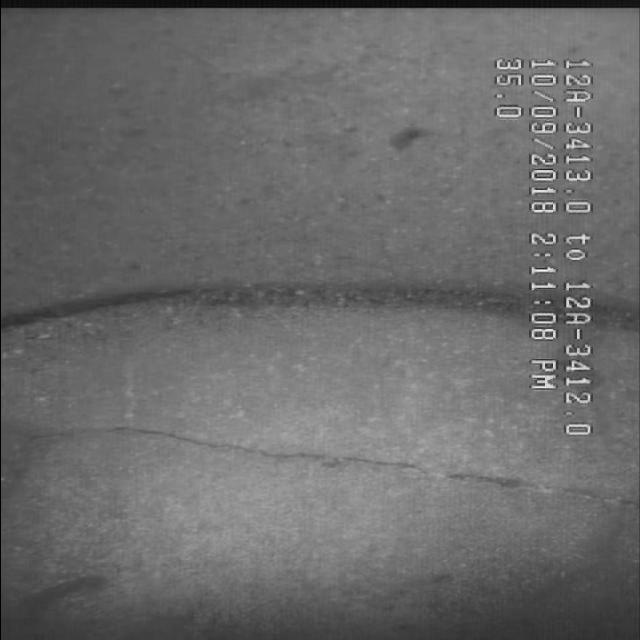Crack: (1, 419, 554, 492)
